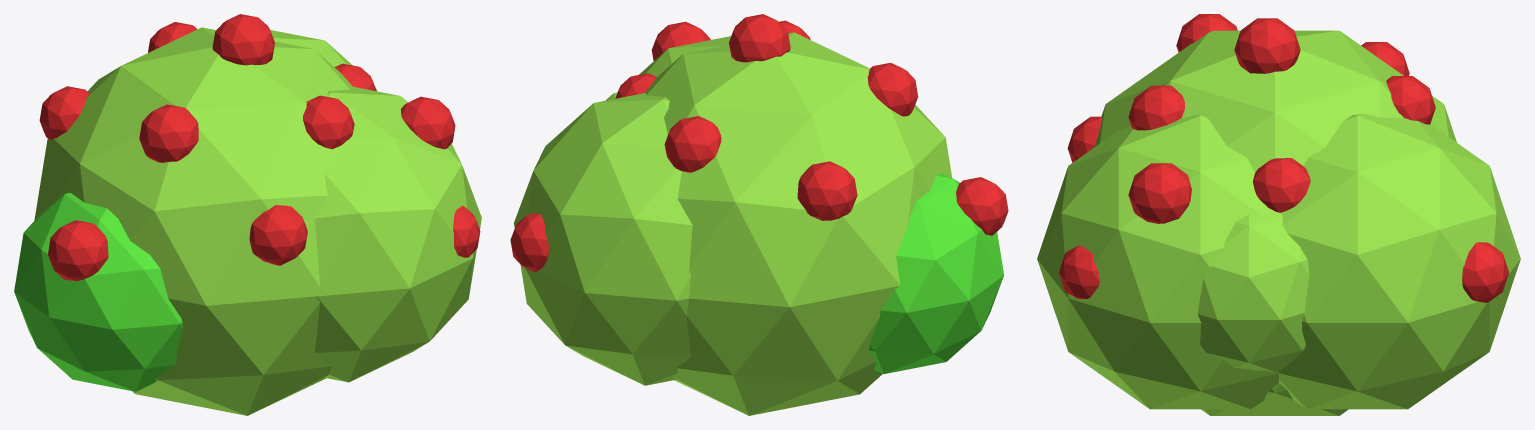
Rendered from berry-bush.fbx.
3 views of the same model, side by side, from view 1: azimuth 30°, elevation 25°; view 2: azimuth 150°, elevation 25°; view 3: azimuth 270°, elevation 25° (orthographic). The views are drawn at different scales.
Parts seen in each view (by area): view 1: Icosphere.011; view 2: Icosphere.011; view 3: Icosphere.011.
Part boxes in pixels (<box>): Icosphere.011: <box>14,14,481,415</box>; Icosphere.011: <box>510,14,1008,415</box>; Icosphere.011: <box>1037,14,1520,415</box>.
Bounding box in the file's own units: 308 × 271 × 301.
